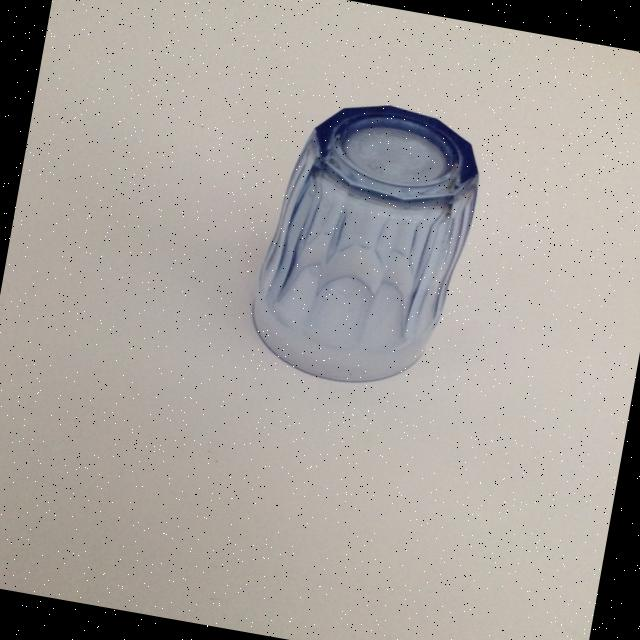glass: (240, 86, 490, 399)
